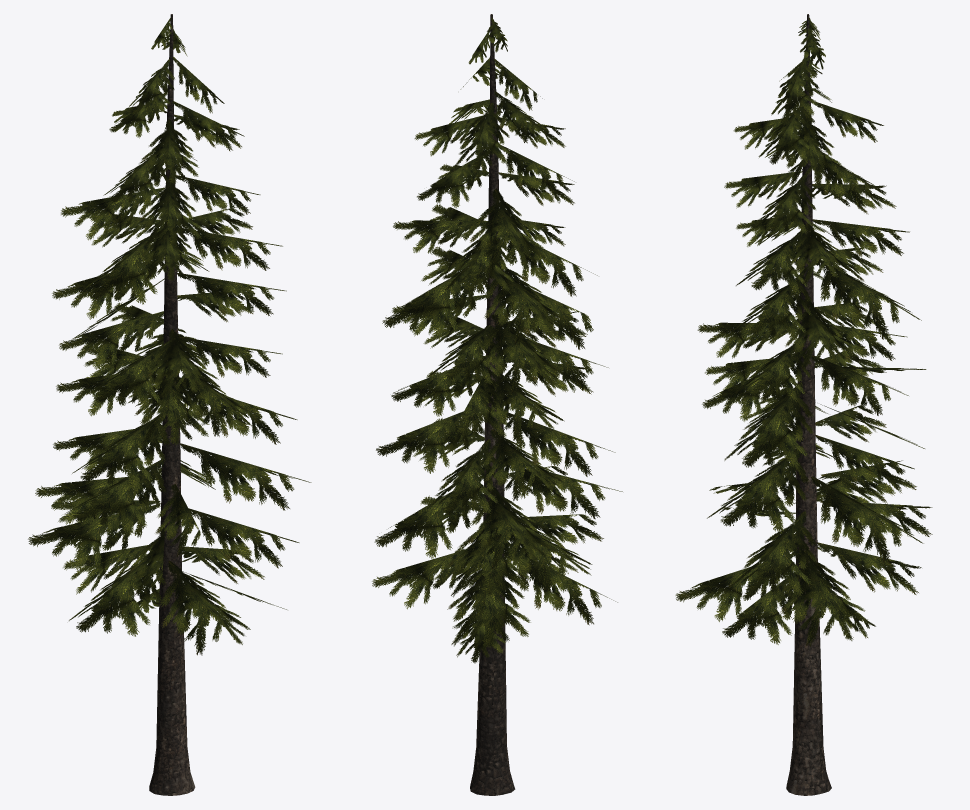
The model's file is pine_tree_n_2_1.glb.
3 views of the same model, side by side, from view 1: azimuth 30°, elevation 25°; view 2: azimuth 150°, elevation 25°; view 3: azimuth 270°, elevation 25° (orthographic).
Visible parts, largest first — view 1: pine_tree_n_2_1_branches, pine_tree_n_2_1; view 2: pine_tree_n_2_1_branches, pine_tree_n_2_1; view 3: pine_tree_n_2_1_branches, pine_tree_n_2_1.
Boxes of the visible parts, box(x1,y1,x2,y2) form: pine_tree_n_2_1_branches: box(28, 17, 311, 655); pine_tree_n_2_1: box(149, 14, 195, 795); pine_tree_n_2_1_branches: box(372, 18, 622, 663); pine_tree_n_2_1: box(470, 14, 515, 795); pine_tree_n_2_1_branches: box(675, 18, 932, 646); pine_tree_n_2_1: box(786, 14, 831, 795).
Size of the model in its own units: 3.23 by 9.1 by 3.05.
Materials: 2 (2 with a texture image).
